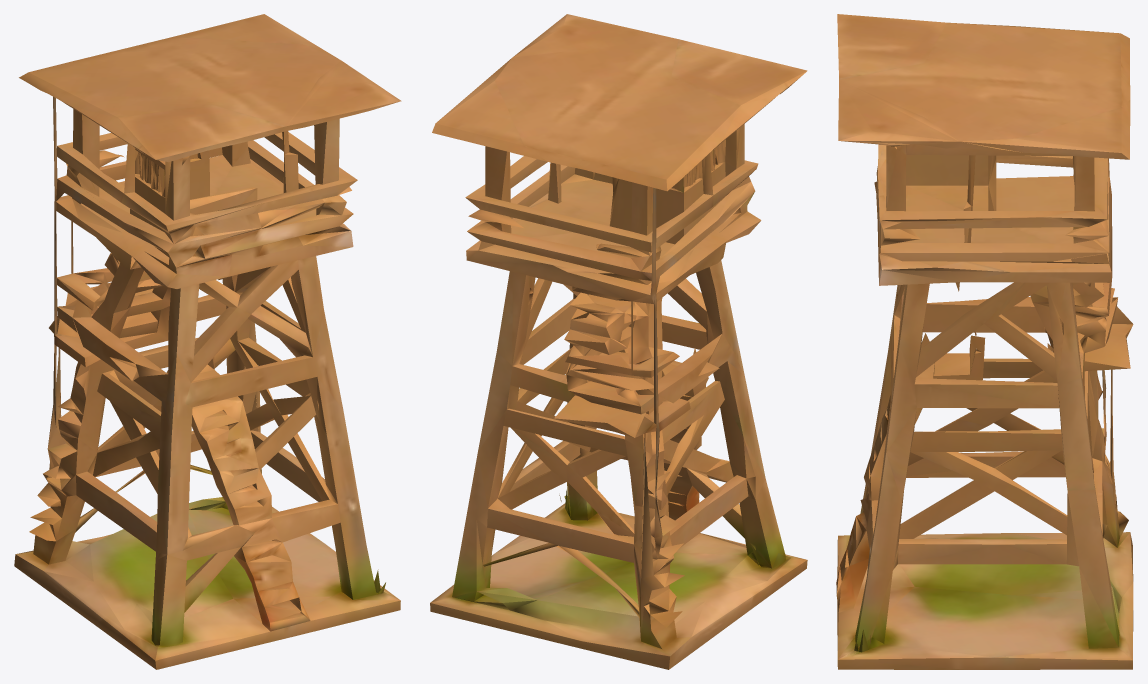
File: m2ZiplineTower.glb
The picture shows the model from 3 angles, left to right: view 1: azimuth 30°, elevation 25°; view 2: azimuth 150°, elevation 25°; view 3: azimuth 270°, elevation 25°; orthographic projection. The views are drawn at different scales.
Visible parts, largest first — view 1: model; view 2: model; view 3: model.
Part boxes in pixels (box(x1,y1,x2,y2)): model: box(14, 14, 401, 669); model: box(430, 14, 807, 669); model: box(836, 14, 1133, 669).
Size of the model in its own units: 0.9503 by 1.89 by 0.9531.
Materials: 1 (1 with a texture image).
